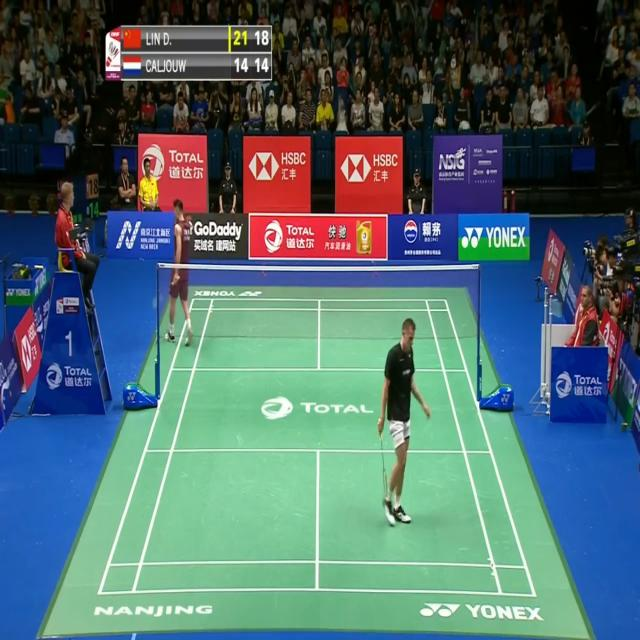Player1: (374, 314, 434, 534)
Player2: (152, 193, 199, 353)
